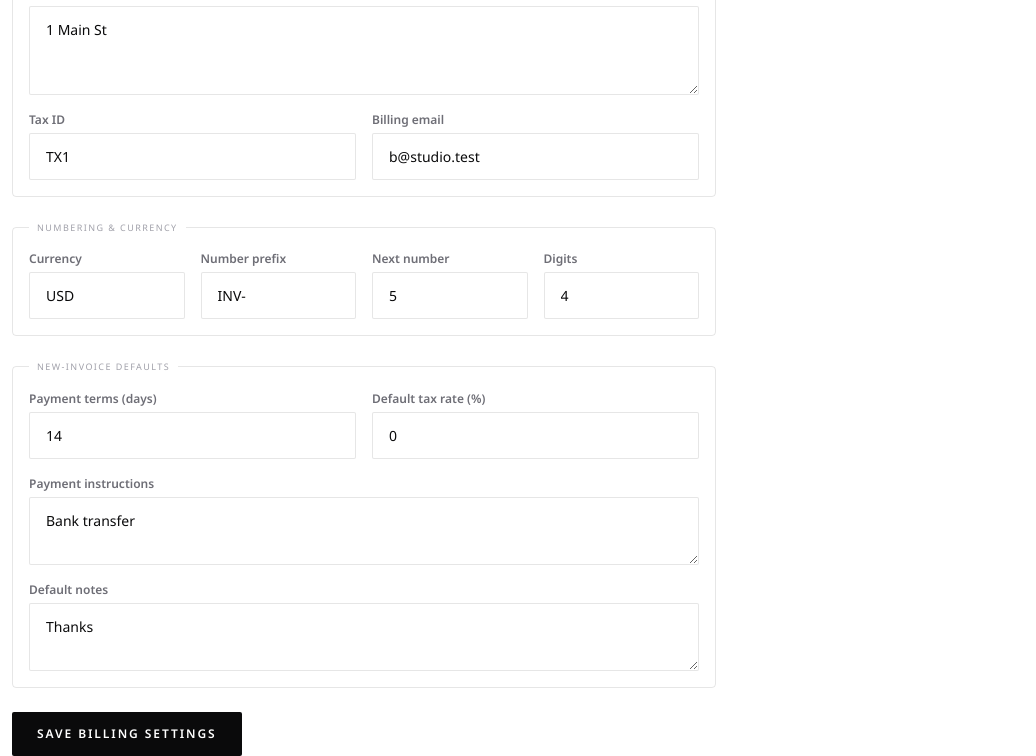
BillingSettingsForm › surfaces a server error
This screenshot has width=1036, height=756.
(page scrolled)
Click the button "Save billing settings" at (127, 734), box [12,712,242,755]
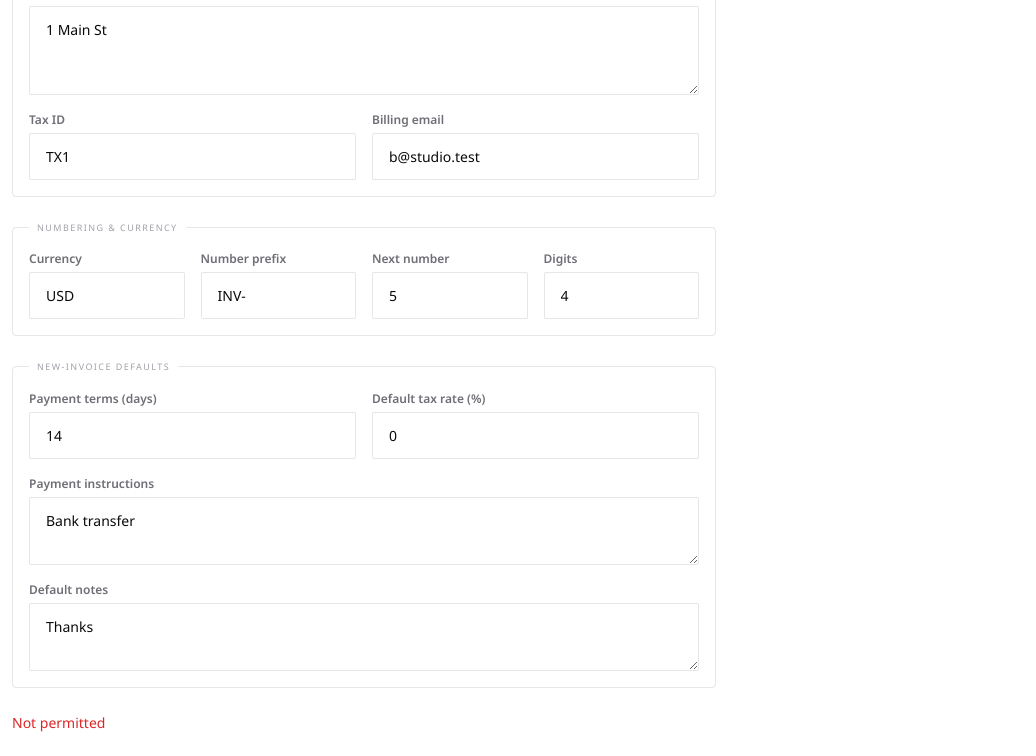
expect the text "Not permitted" is shown: met, box [12,712,105,732]
